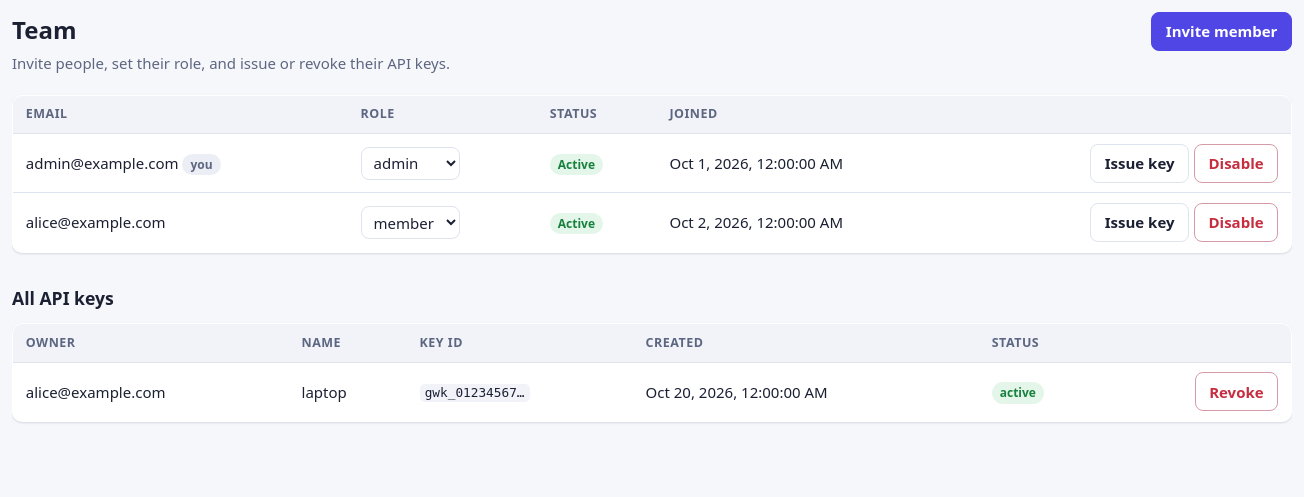
TeamPage › explains why the last admin cannot be demoted
This screenshot has width=1304, height=497.
Select "member" in the dropdown named "Role of admin@example.com": (410, 163) [361, 147, 460, 180]
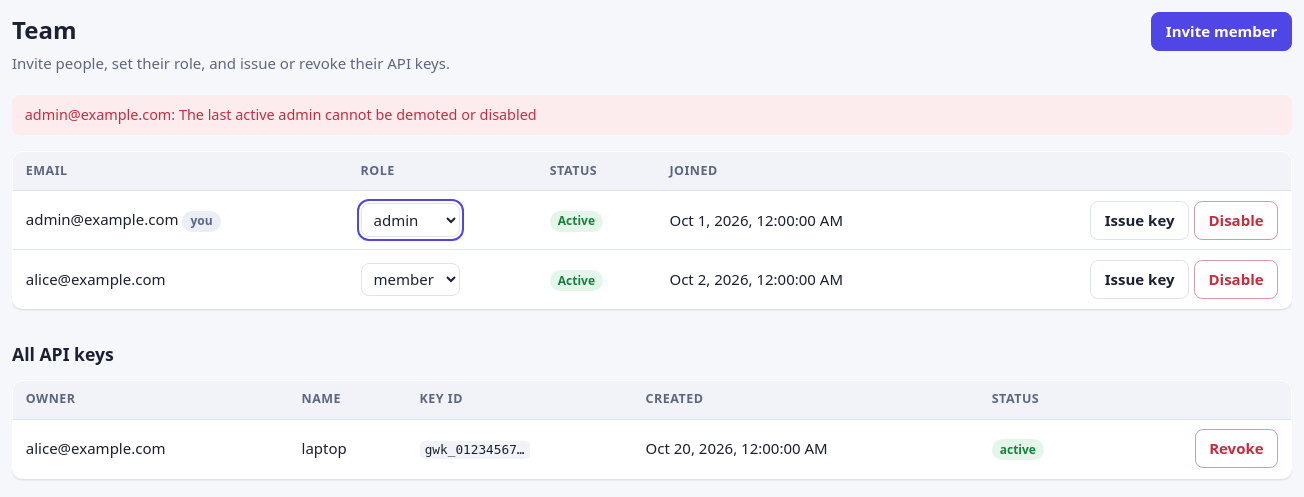
expect the text "admin@example.com: The last active admin cannot be demoted or disabled" is shown: met, box [12, 94, 1292, 135]
